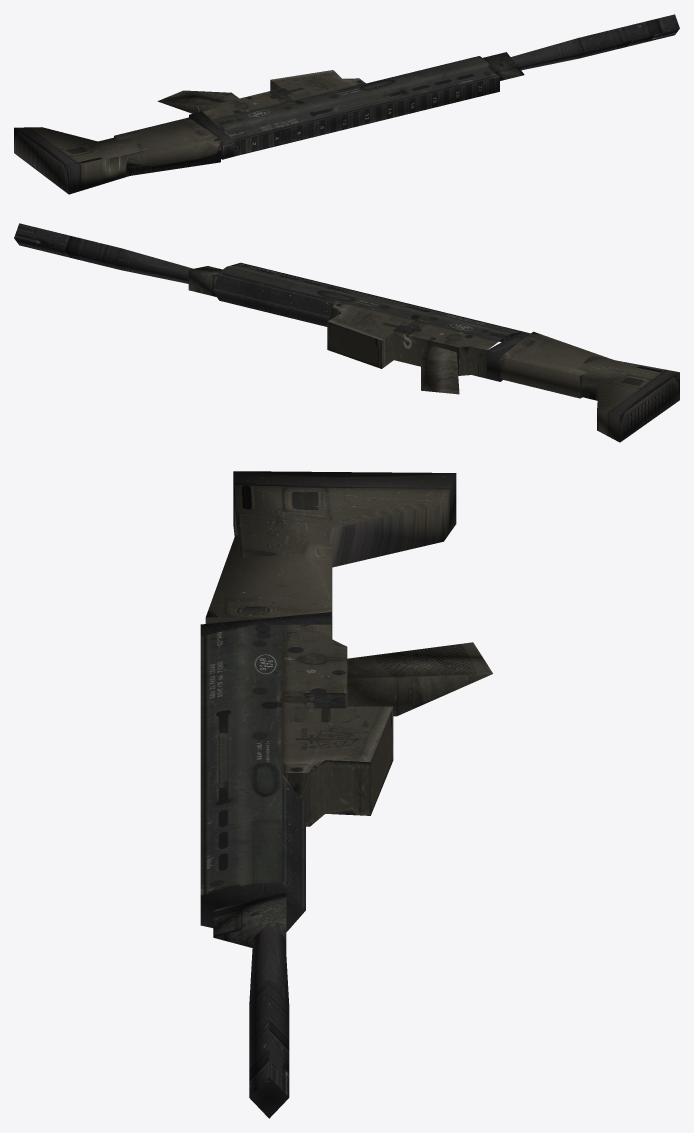
File: t6_wpn_ar_scarh_world_LOD2.obj
3 views of the same model, one above another, from view 1: azimuth 30°, elevation 25°; view 2: azimuth 150°, elevation 25°; view 3: azimuth 270°, elevation 25° (orthographic). The views are drawn at different scales.
Visible parts, largest first — view 1: mtl_t6_wpn_ar_scarh_camo1, mtl_t6_wpn_ar_scarh_camo2, mtl_t6_wpn_ar_scarh_camo3; view 2: mtl_t6_wpn_ar_scarh_camo1, mtl_t6_wpn_ar_scarh_camo2, mtl_t6_wpn_ar_scarh_camo3; view 3: mtl_t6_wpn_ar_scarh_camo2, mtl_t6_wpn_ar_scarh_camo1, mtl_t6_wpn_ar_scarh_camo3.
Boxes of the visible parts, left/top/right/bottom form: mtl_t6_wpn_ar_scarh_camo1: left=14, top=14, right=679, bottom=194; mtl_t6_wpn_ar_scarh_camo2: left=14, top=70, right=365, bottom=194; mtl_t6_wpn_ar_scarh_camo3: left=222, top=61, right=499, bottom=141; mtl_t6_wpn_ar_scarh_camo1: left=14, top=223, right=679, bottom=442; mtl_t6_wpn_ar_scarh_camo2: left=327, top=300, right=679, bottom=415; mtl_t6_wpn_ar_scarh_camo3: left=227, top=262, right=521, bottom=335; mtl_t6_wpn_ar_scarh_camo2: left=205, top=471, right=456, bottom=826; mtl_t6_wpn_ar_scarh_camo1: left=200, top=474, right=492, bottom=1118; mtl_t6_wpn_ar_scarh_camo3: left=200, top=624, right=253, bottom=894.
Size of the model in its own units: 94.8 by 3.96 by 19.54.
